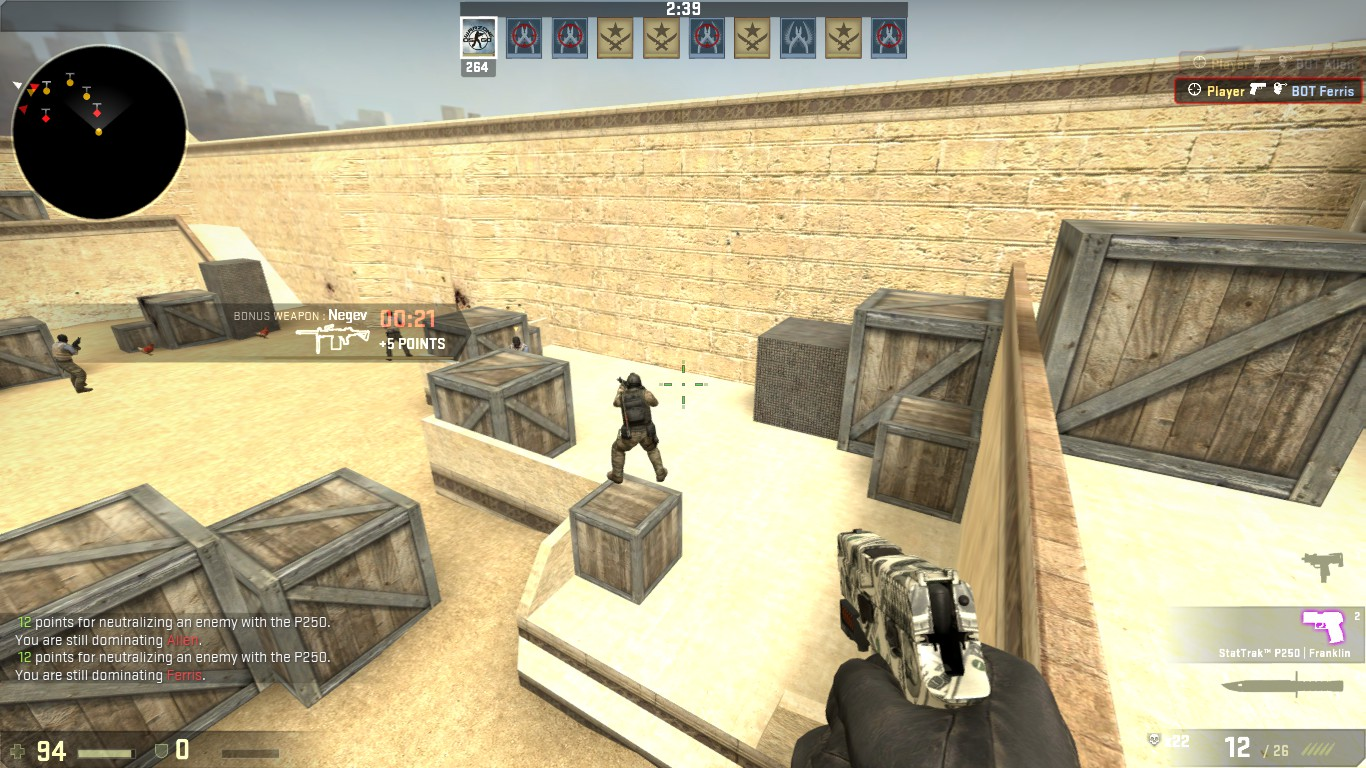c: (609, 371, 663, 485)
ch: (622, 373, 644, 392)
t: (49, 332, 96, 394)
th: (508, 334, 526, 351), (54, 332, 70, 347)
